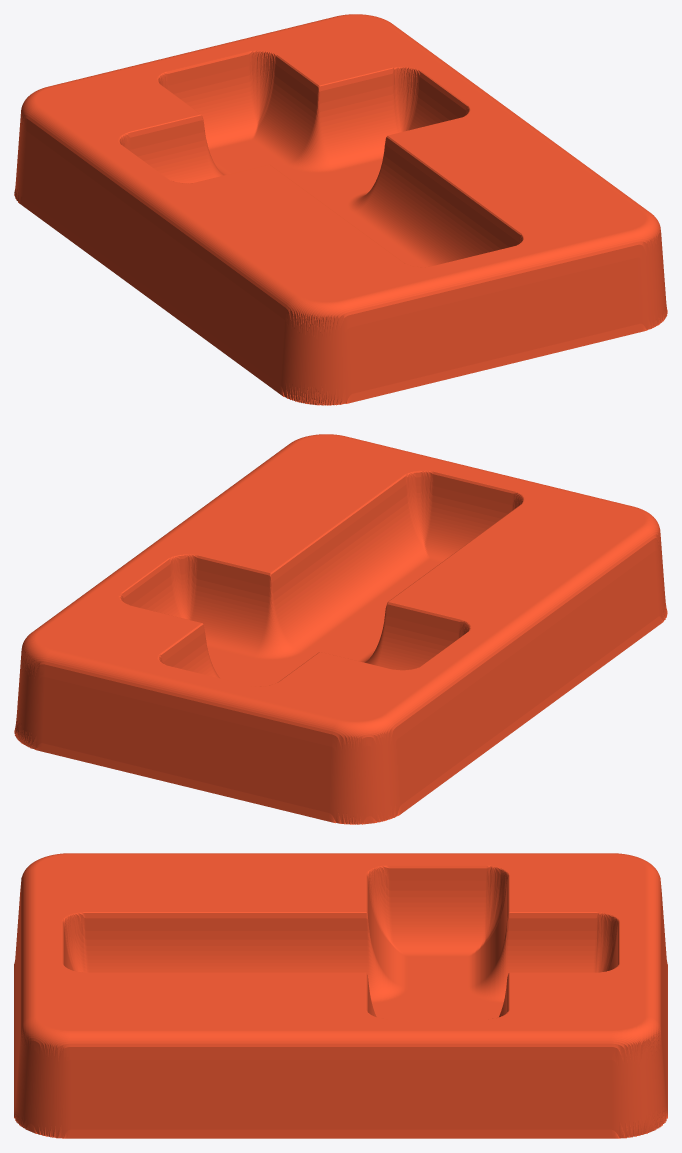
Rendered from mold.glb.
3 renders of one model, top to bottom at view 1: azimuth 30°, elevation 25°; view 2: azimuth 150°, elevation 25°; view 3: azimuth 270°, elevation 25°, orthographic. The views are drawn at different scales.
Visible parts, largest first — view 1: geometry_0; view 2: geometry_0; view 3: geometry_0.
Part boxes in pixels (box(x1,y1,x2,y2)): geometry_0: box(14, 14, 667, 405); geometry_0: box(14, 434, 667, 824); geometry_0: box(14, 853, 667, 1138).
Size of the model in its own units: 0.074 by 0.0175 by 0.105.
